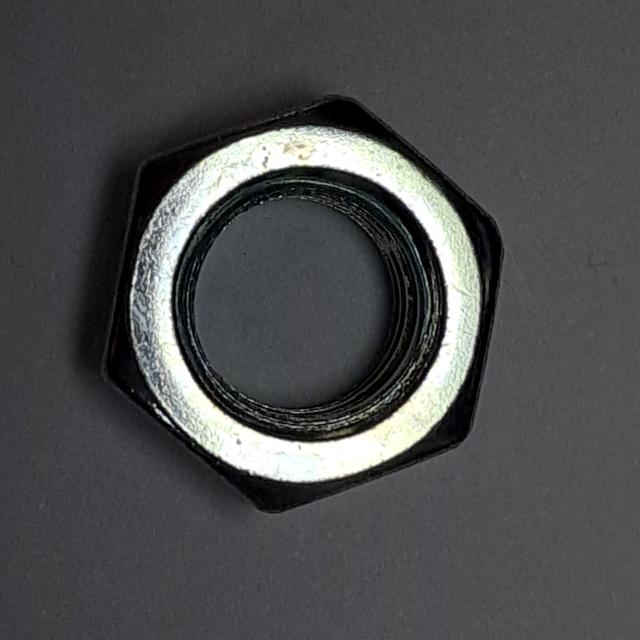Excellent: (81, 79, 514, 536)
